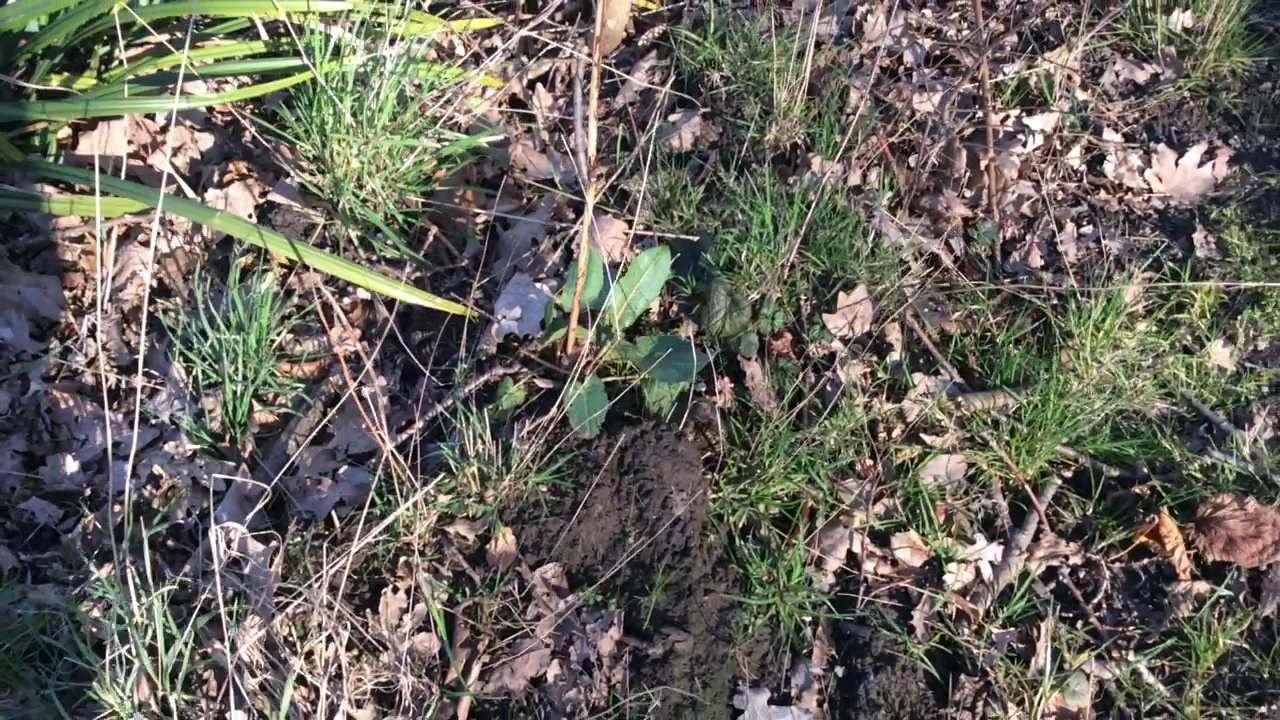rumex: (494, 245, 713, 440)
